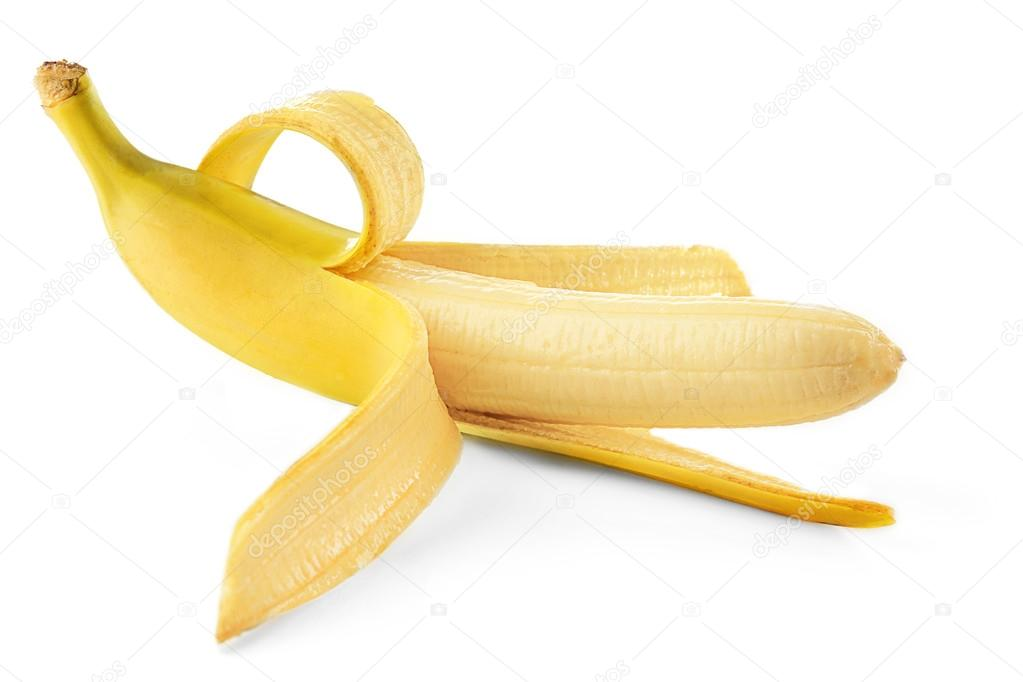banana: (23, 30, 962, 628), (355, 245, 942, 489), (155, 311, 493, 677), (34, 61, 468, 338)
